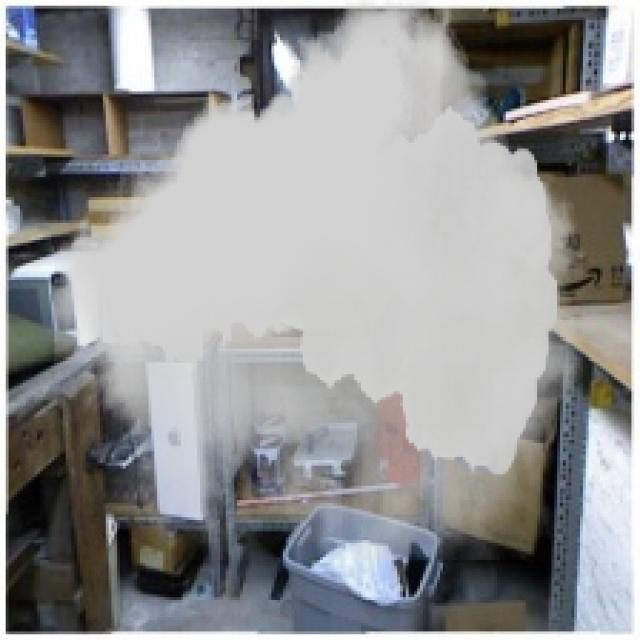smoke: (54, 0, 583, 560)
